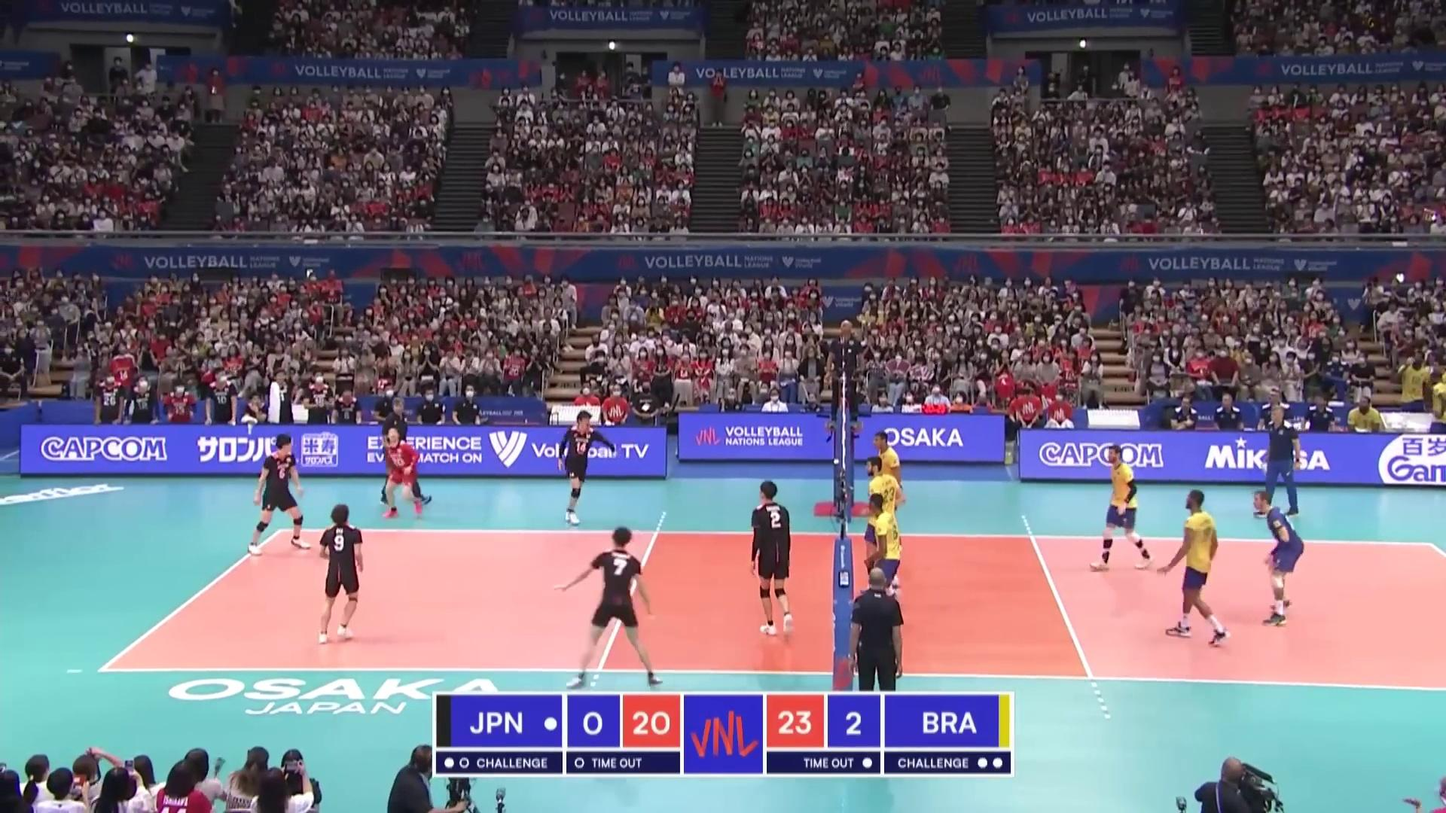player: (556, 529, 661, 684), (1165, 491, 1230, 651), (1093, 446, 1155, 573), (749, 479, 797, 638), (1254, 489, 1306, 626), (252, 435, 311, 553), (317, 506, 366, 642), (559, 409, 602, 524), (862, 459, 901, 584), (865, 495, 902, 610), (381, 429, 427, 519), (869, 428, 901, 548)
refree: (849, 568, 905, 704), (825, 320, 863, 439)
